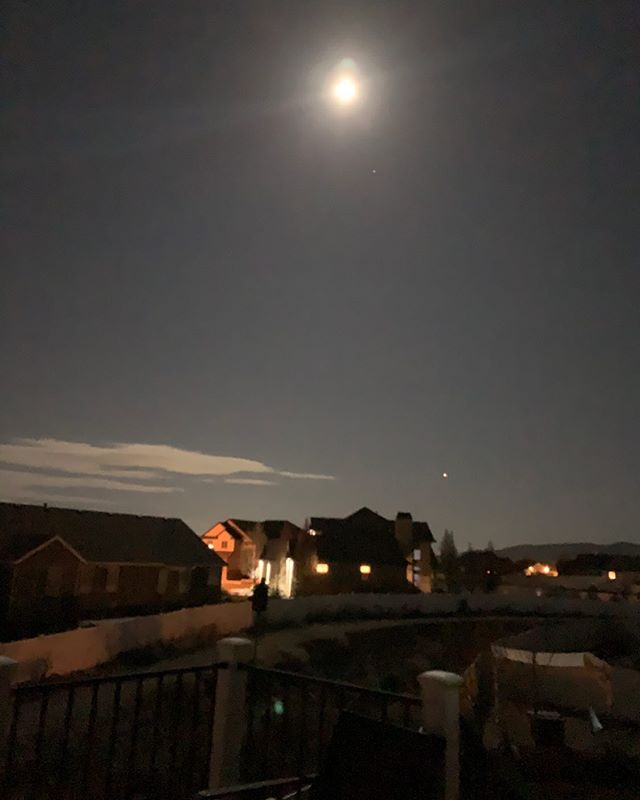building: (1, 499, 212, 622), (295, 505, 446, 599), (198, 514, 310, 604)
sky: (1, 1, 640, 502)
sun: (311, 53, 379, 125)
